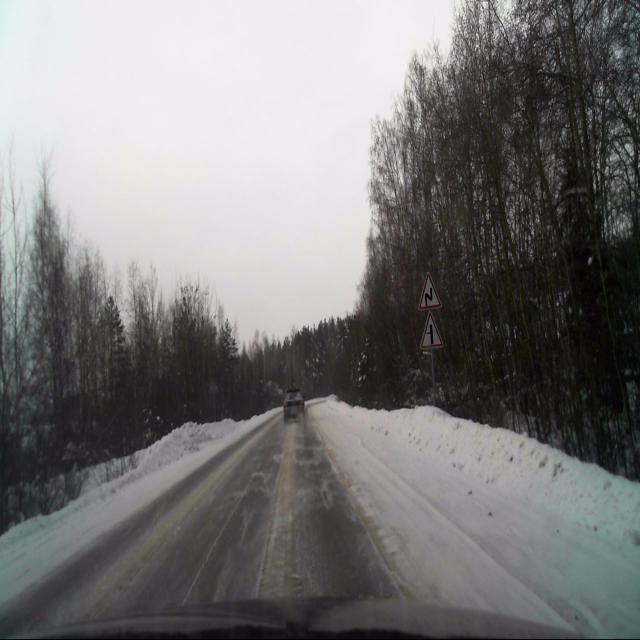road sign: (419, 310, 443, 348), (418, 270, 441, 309)
